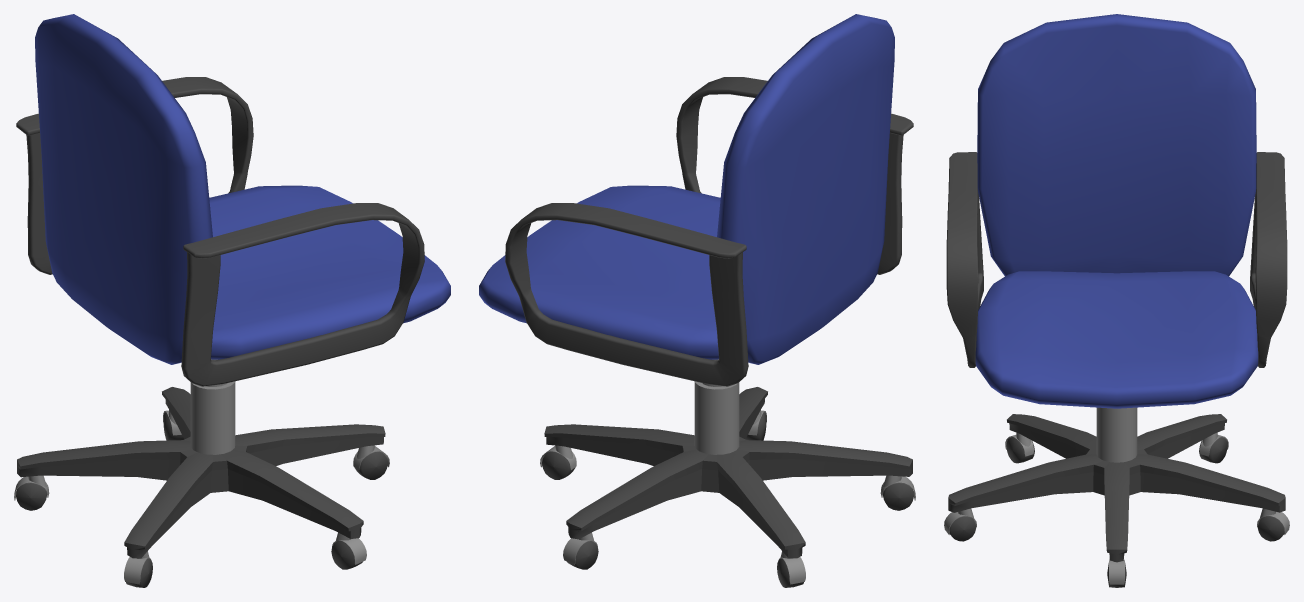
File: Silla.fbx
3 views of the same model, side by side, from view 1: azimuth 30°, elevation 25°; view 2: azimuth 150°, elevation 25°; view 3: azimuth 270°, elevation 25° (orthographic). The views are drawn at different scales.
Parts seen in each view (by area): view 1: Silla; view 2: Silla; view 3: Silla.
Part boxes in pixels (x1,y1,x2,y2): Silla: (14, 14, 450, 587); Silla: (479, 14, 915, 587); Silla: (944, 14, 1289, 587).
Size of the model in its own units: 0.6171 by 0.8891 by 0.6124.
